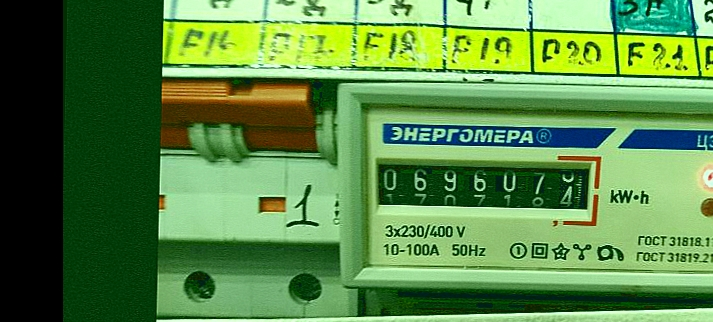0: (381, 164, 398, 189), (501, 165, 516, 190)
4: (557, 181, 574, 206)
6: (471, 165, 488, 190), (411, 165, 428, 189)
7: (531, 168, 546, 194)
9: (441, 166, 457, 190)
screen: (361, 142, 605, 221)
